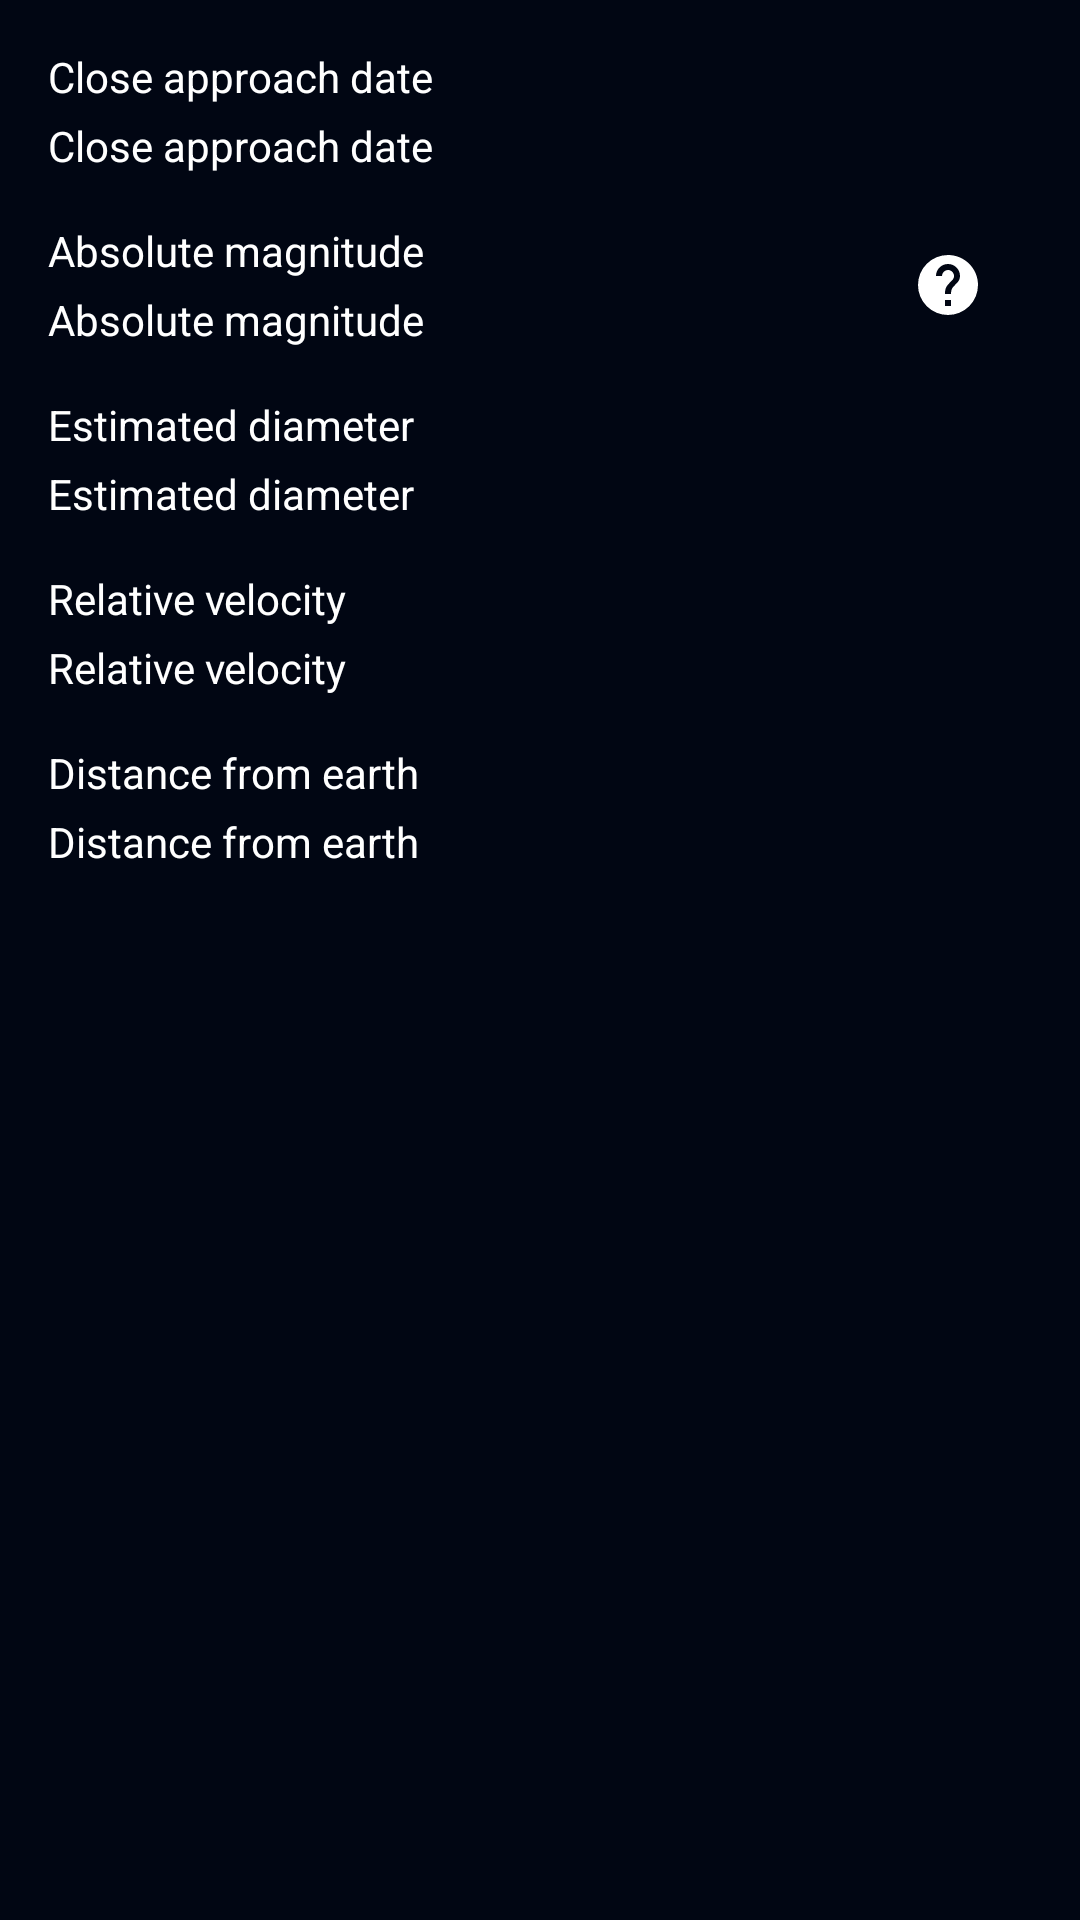

Named icons in this screenshot (1080px x 1920px) and their bounding boxes, (x1, y1, x2, y2):
Help circle: (918, 255, 978, 315)
